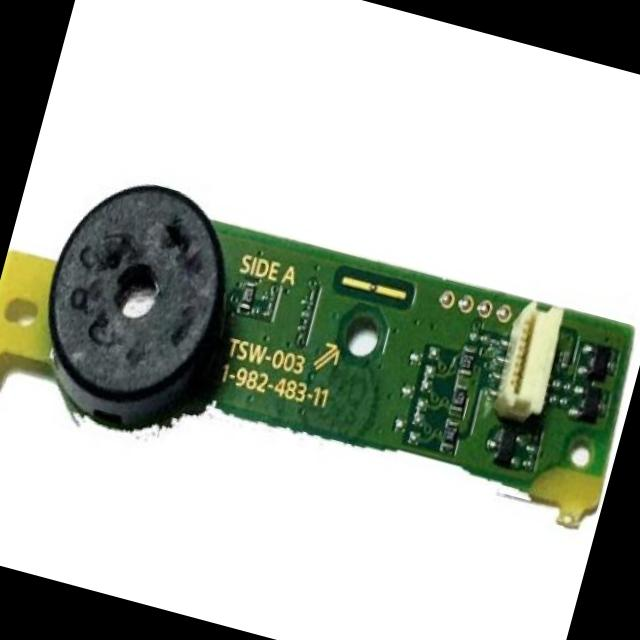connector: (492, 301, 568, 420)
resistor: (452, 342, 480, 383), (235, 276, 259, 316), (448, 383, 472, 416), (440, 420, 460, 444)
transistor: (481, 417, 528, 471), (568, 376, 608, 428), (580, 336, 618, 380)
